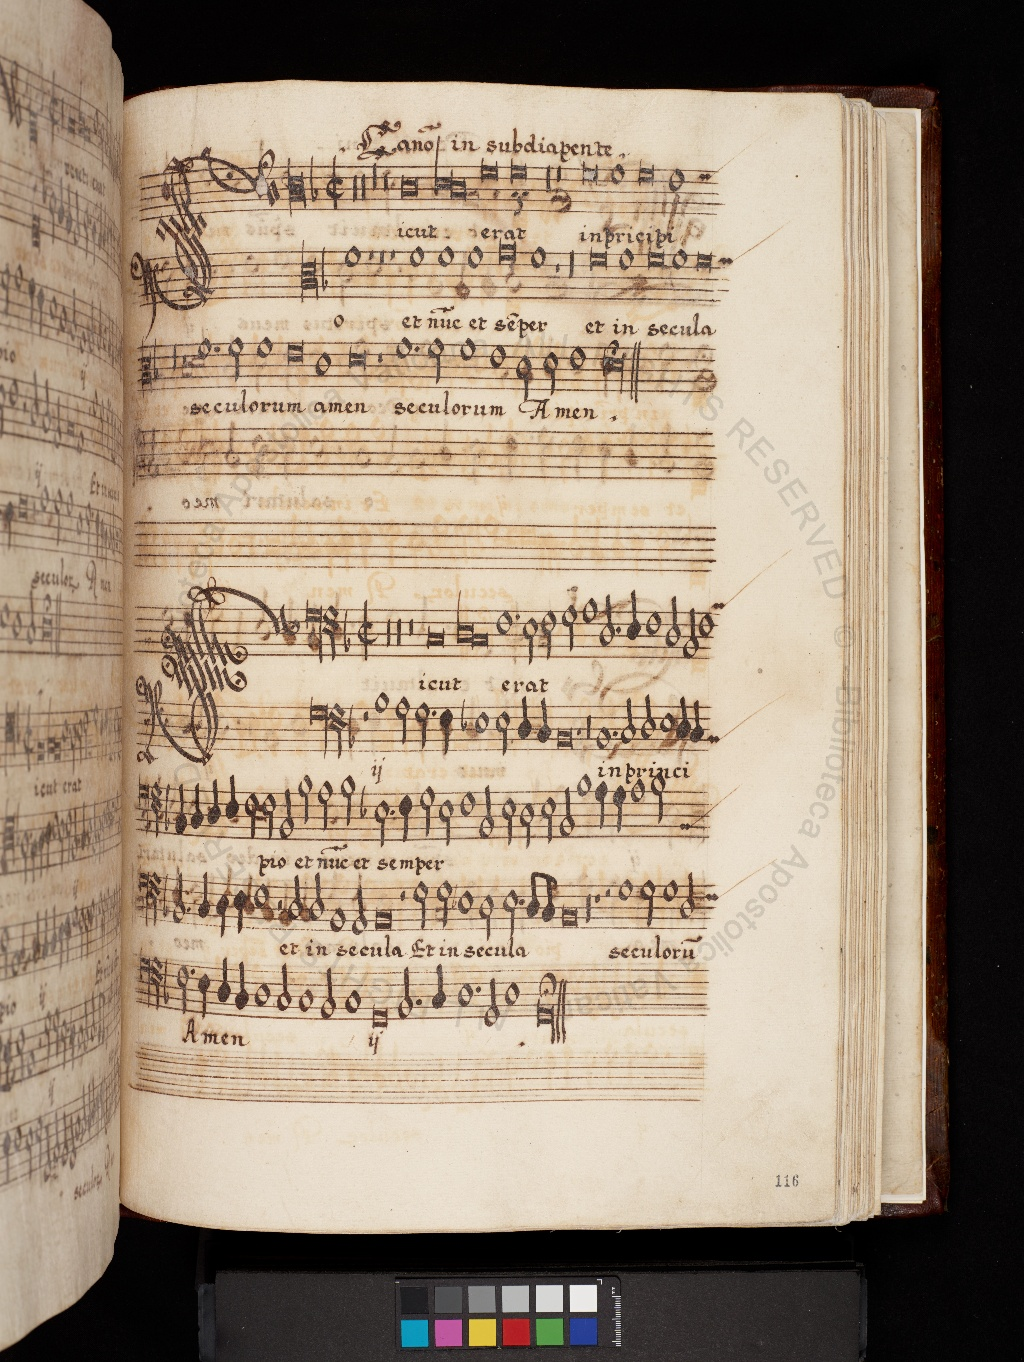breve_9: (556, 899, 583, 936), (370, 908, 395, 935)
custos_5: (701, 875, 735, 917)
f clef_5: (128, 867, 160, 931)
flat_9: (156, 879, 171, 924)
fusa_7: (525, 866, 544, 930)
fusa_8: (542, 867, 560, 932)
longa rest: (581, 875, 594, 936)
minim rest: (394, 877, 407, 940), (602, 872, 614, 934), (274, 876, 284, 935)
minim_10: (347, 870, 369, 941)
minim_4: (410, 875, 430, 936), (638, 872, 658, 933), (432, 875, 452, 935)
minim_6: (499, 881, 518, 948)
minim_7: (305, 867, 327, 930), (477, 886, 498, 946), (677, 868, 697, 928), (286, 870, 304, 930)
minim_9: (171, 863, 187, 930)
point: (520, 891, 530, 914), (184, 900, 197, 916)
semibreve rest: (591, 875, 602, 934)
semibreve_4: (613, 871, 636, 908), (660, 871, 681, 908)
semibreve_5: (253, 886, 269, 918)
semibreve_6: (454, 882, 477, 923)
semibreve_9: (325, 906, 347, 940)
semiminim_6: (232, 883, 248, 940)
semiminim_7: (214, 870, 232, 944)
semiminim_8: (195, 867, 213, 927)
